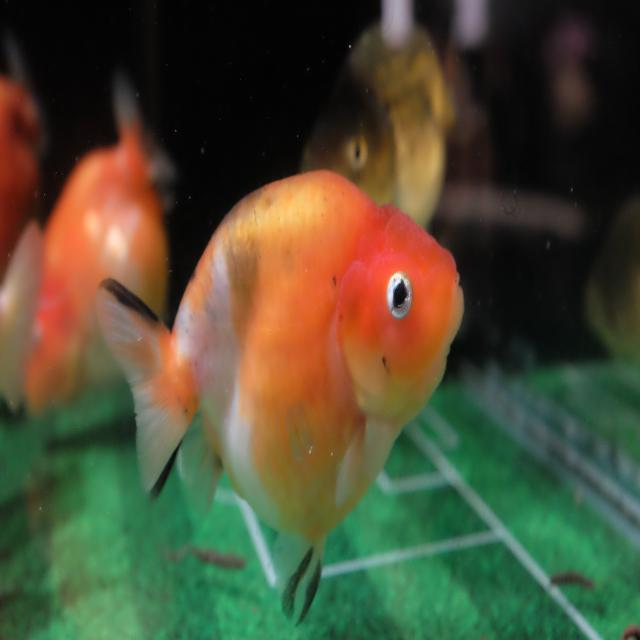Goldfish: (96, 167, 466, 630)
